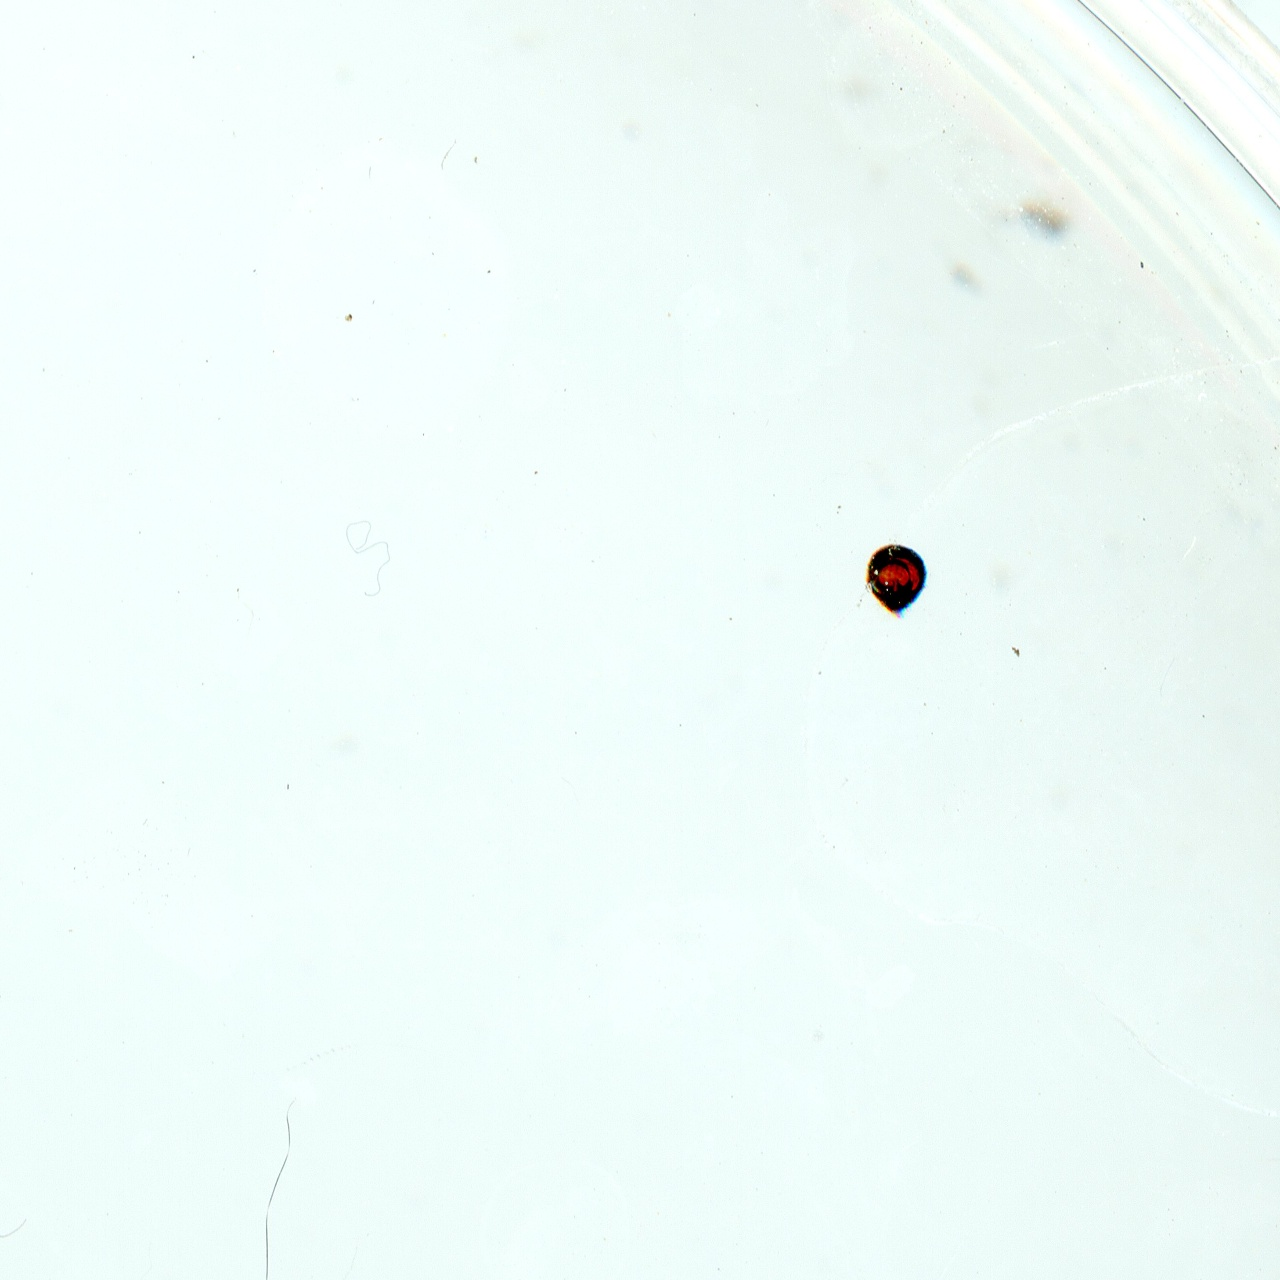arthropod: (862, 543, 931, 619)
